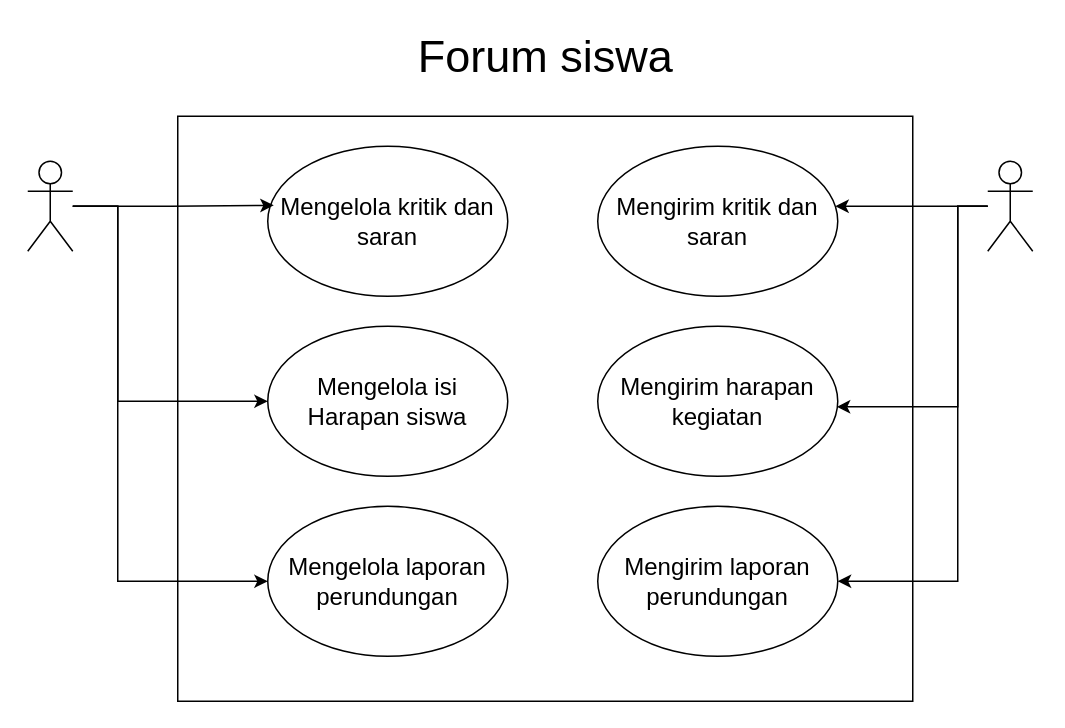
Some shapes in this 1065 by 728 pixel diagram are drawn without their labels. The shapes that lost their labels are listed below. From the top down, each one's centre as x and y in pixels, then its label:
At pixel 49 205: "admin".
At pixel 1009 205: "Siswa/i".
